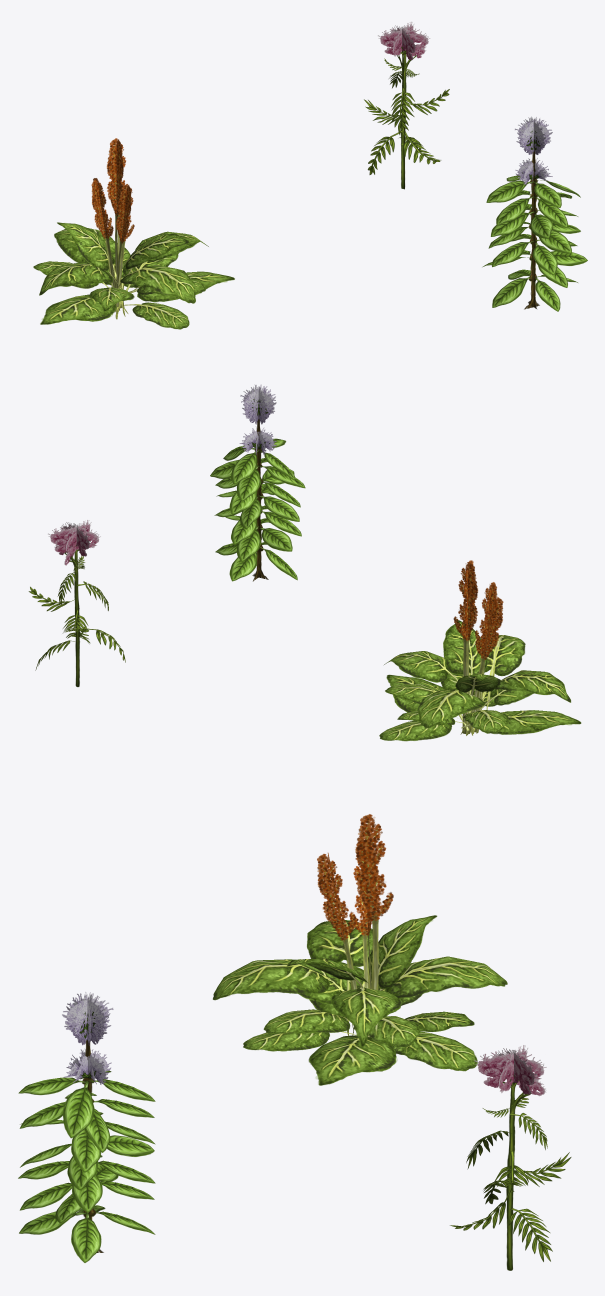
File: plant.gltf
3 renders of one model, top to bottom at view 1: azimuth 30°, elevation 25°; view 2: azimuth 150°, elevation 25°; view 3: azimuth 270°, elevation 25°, orthographic. The views are drawn at different scales.
Parts seen in each view (by area): view 1: Object_2, Object_3, Object_4; view 2: Object_2, Object_3, Object_4; view 3: Object_2, Object_3, Object_4.
Part boxes in pixels (x1,y1,x2,y2): Object_2: (33,138,234,329); Object_3: (483,116,587,311); Object_4: (364,22,449,189); Object_2: (379,560,581,741); Object_3: (210,384,305,581); Object_4: (28,520,125,686); Object_2: (213,814,507,1085); Object_3: (18,992,155,1262); Object_4: (450,1045,571,1270).
Size of the model in its own units: 16.7 by 6.36 by 12.23.
Materials: 3 (3 with a texture image).
